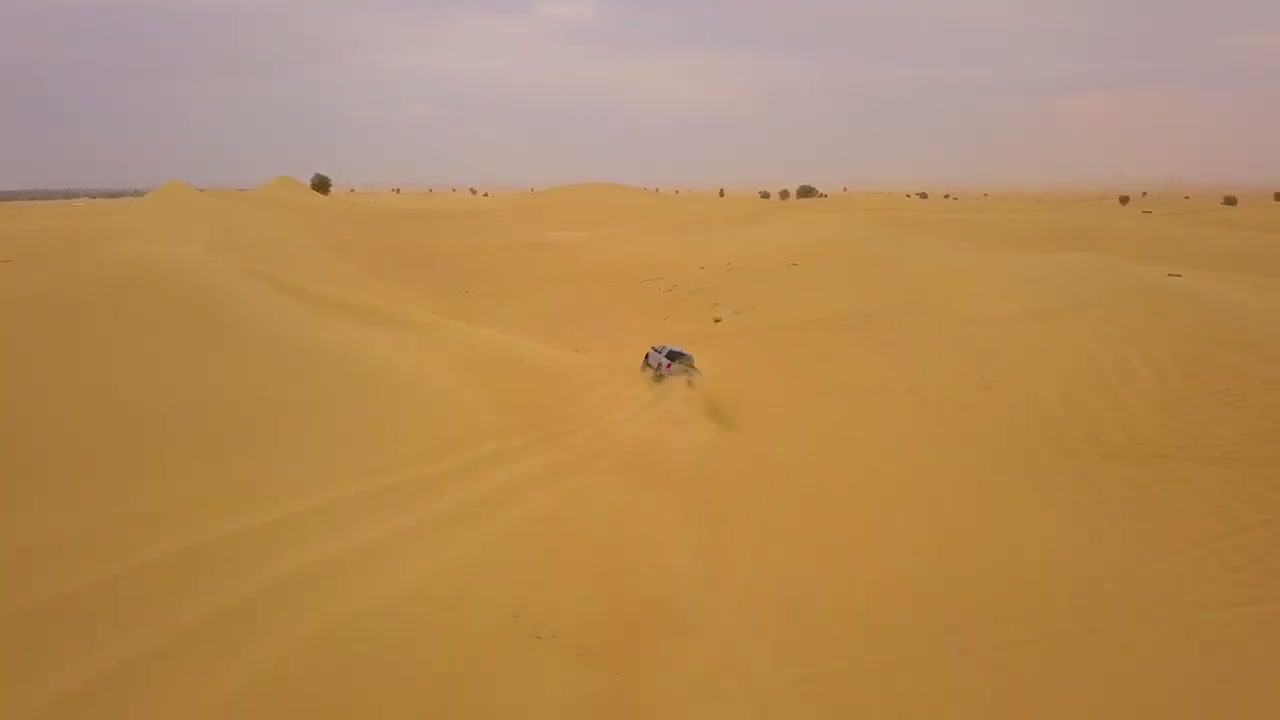vehicle_track: (0, 387, 689, 713)
